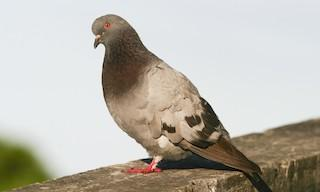Flying Rat: (91, 13, 265, 177)
